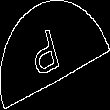P_S: (36, 24, 74, 86)
